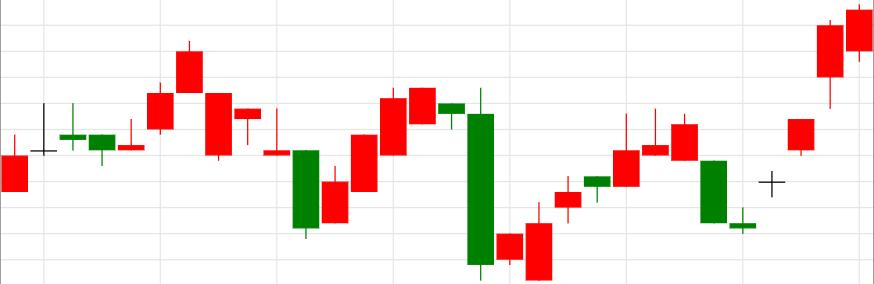three_white_soldiers_rise: (176, 40, 408, 238)
